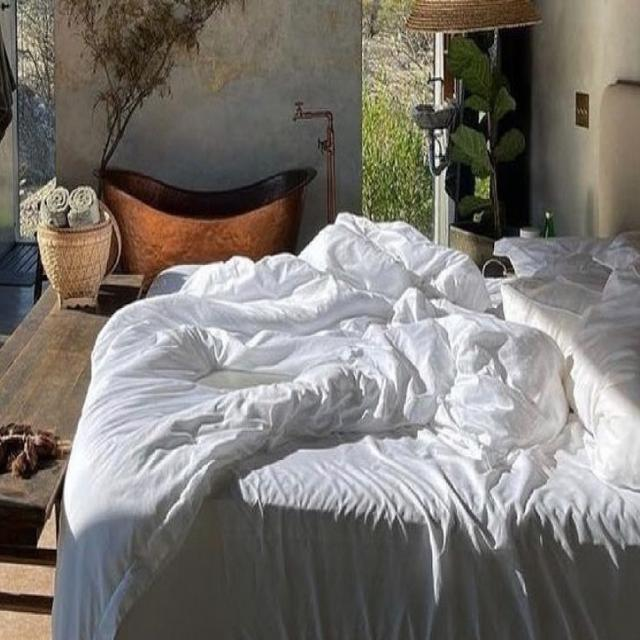bed: (93, 205, 640, 640)
